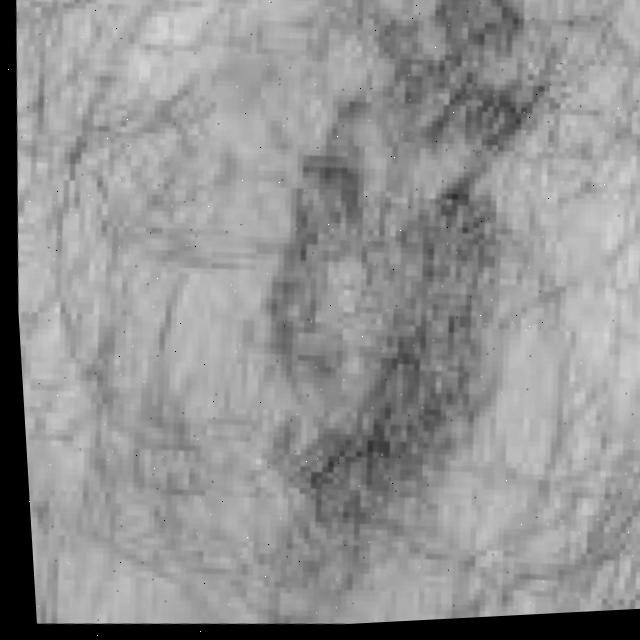Shingles: (253, 0, 585, 540)
